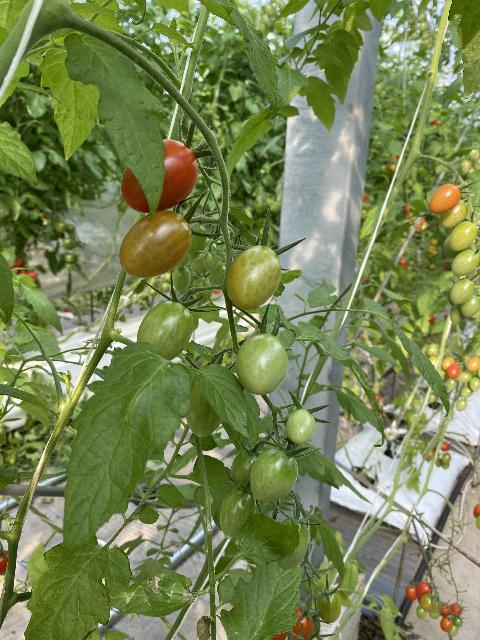l_fully_ripened: (121, 139, 198, 214)
l_green: (225, 246, 282, 311), (137, 300, 194, 361), (237, 333, 288, 395), (251, 447, 298, 502), (186, 374, 223, 438), (274, 517, 309, 571), (219, 489, 256, 538), (230, 448, 262, 492), (286, 409, 316, 445), (188, 239, 220, 272), (450, 220, 478, 251), (316, 591, 342, 624), (440, 199, 467, 229), (451, 249, 480, 276), (449, 277, 475, 305), (187, 221, 207, 254), (194, 277, 214, 304), (171, 267, 191, 293), (459, 294, 480, 318), (208, 260, 226, 287), (450, 304, 466, 325), (203, 253, 218, 271)
l_half_ripened: (120, 211, 193, 278), (429, 183, 461, 214), (287, 606, 314, 640)
